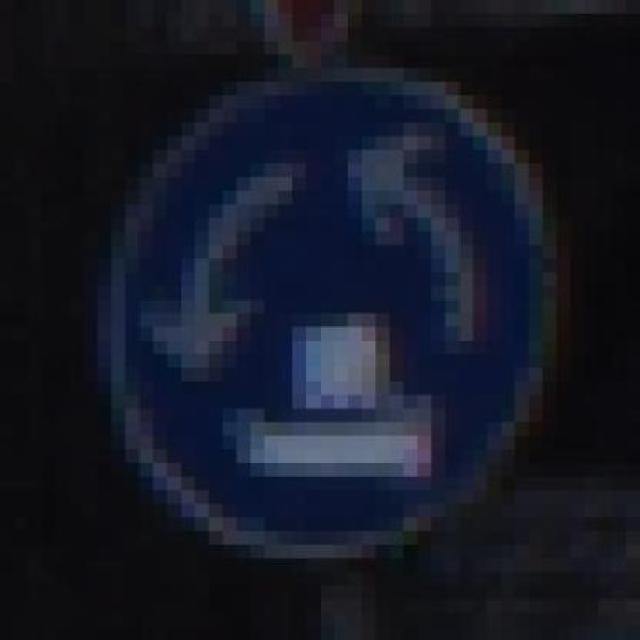Round-About: (97, 54, 571, 558)
